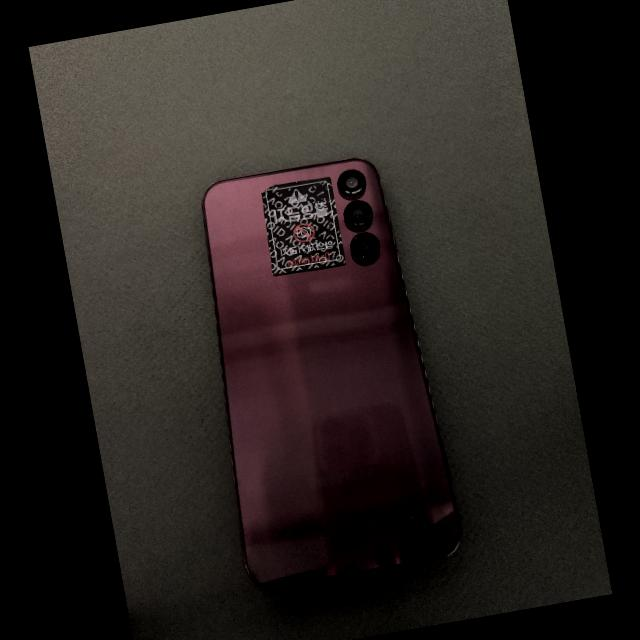lens: (336, 170, 366, 199), (342, 201, 371, 228), (350, 233, 378, 260)
phone: (203, 159, 461, 587)
sticker: (261, 177, 347, 275)
